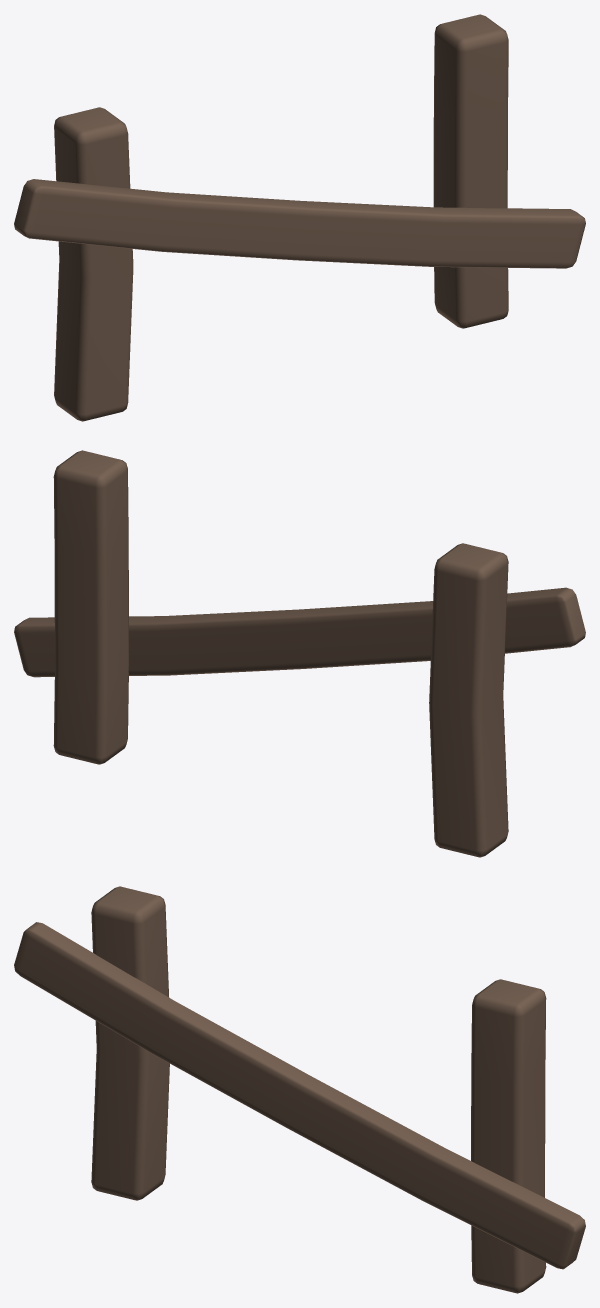
Rendered from FenceD.fbx.
3 views of the same model, one above another, from view 1: azimuth 30°, elevation 25°; view 2: azimuth 150°, elevation 25°; view 3: azimuth 330°, elevation 25° (orthographic).
Visible parts, largest first — view 1: polySurface2; view 2: polySurface2; view 3: polySurface2.
Part boxes in pixels (x1,y1,x2,y2): polySurface2: (14, 14, 585, 421); polySurface2: (14, 450, 585, 857); polySurface2: (14, 886, 585, 1293).
Size of the model in its own units: 162 by 79.99 by 19.72.
